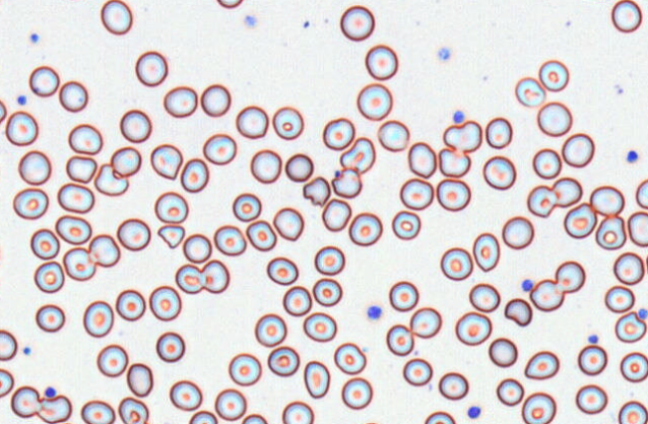PLT: (435, 47, 455, 65), (240, 13, 256, 27), (367, 305, 381, 320), (452, 109, 467, 123), (467, 405, 481, 419), (626, 149, 640, 163), (521, 279, 536, 292), (42, 386, 58, 398), (15, 93, 28, 106), (28, 31, 39, 45), (587, 333, 600, 342), (640, 307, 648, 318), (22, 346, 30, 356)
RBC: (356, 82, 392, 120), (339, 4, 375, 41), (454, 311, 492, 345), (536, 101, 572, 136), (364, 43, 398, 80), (563, 202, 597, 238), (17, 149, 51, 185), (62, 246, 96, 281), (348, 211, 382, 246), (436, 177, 471, 211), (482, 155, 516, 190), (148, 285, 181, 321), (5, 110, 38, 146), (135, 50, 168, 86), (82, 300, 114, 337), (116, 217, 150, 251), (529, 278, 564, 311), (440, 246, 473, 281), (561, 132, 594, 167), (150, 143, 182, 179), (12, 187, 48, 219), (57, 182, 94, 213), (254, 313, 287, 347), (501, 215, 534, 249), (228, 352, 261, 386), (399, 177, 433, 210), (119, 109, 152, 143), (521, 391, 556, 423), (272, 206, 304, 241), (472, 232, 500, 272), (250, 148, 282, 183), (100, 0, 132, 35), (272, 105, 304, 140), (322, 117, 355, 150), (235, 105, 268, 138), (88, 233, 120, 267), (154, 191, 188, 223), (96, 343, 128, 377), (202, 133, 236, 165), (163, 85, 197, 117), (595, 215, 626, 250), (589, 185, 624, 216), (55, 214, 91, 244), (407, 141, 436, 178), (610, 0, 642, 33), (169, 379, 202, 411), (333, 342, 366, 374), (613, 251, 644, 285), (68, 123, 102, 154), (200, 83, 231, 117), (524, 350, 559, 380), (303, 360, 330, 398), (409, 306, 441, 338), (614, 311, 646, 343), (214, 388, 246, 420), (377, 119, 409, 151), (10, 385, 41, 418), (554, 260, 585, 293), (213, 224, 246, 255), (341, 376, 372, 409), (303, 311, 336, 342), (33, 260, 64, 293), (538, 59, 569, 92), (321, 197, 351, 231), (180, 157, 209, 192), (110, 145, 141, 177), (245, 219, 276, 251), (575, 383, 607, 414), (267, 345, 299, 376), (28, 65, 59, 97), (200, 259, 229, 293), (551, 176, 582, 207), (514, 76, 545, 107), (468, 282, 500, 312), (115, 289, 145, 321), (58, 80, 88, 112), (126, 362, 153, 397), (282, 285, 312, 316), (577, 344, 607, 375), (388, 280, 418, 311), (155, 331, 185, 362), (314, 245, 345, 275), (266, 256, 298, 285), (532, 147, 561, 179), (386, 323, 414, 356), (182, 233, 212, 263), (391, 210, 421, 240), (619, 351, 648, 382), (30, 228, 59, 259), (485, 116, 512, 149), (174, 263, 203, 293), (402, 357, 432, 386), (488, 337, 517, 367), (604, 284, 634, 313), (438, 371, 468, 400), (312, 277, 342, 306), (232, 192, 261, 222), (284, 152, 313, 182), (35, 303, 65, 332), (118, 396, 149, 424), (495, 377, 524, 406), (80, 399, 115, 423), (627, 210, 648, 247), (281, 400, 314, 423), (617, 400, 647, 423), (0, 329, 17, 361), (0, 367, 14, 397), (635, 178, 648, 209), (424, 410, 455, 423), (188, 410, 217, 423), (241, 413, 268, 423), (216, 0, 244, 8), (0, 99, 7, 123), (0, 236, 3, 268), (645, 249, 648, 276), (359, 421, 382, 424), (59, 0, 89, 2)
Schistocyte: (340, 136, 376, 173), (443, 118, 482, 151), (95, 163, 129, 196), (526, 184, 558, 218), (331, 167, 363, 199), (64, 155, 98, 185), (437, 147, 471, 177), (39, 395, 73, 424), (504, 295, 533, 326), (303, 175, 329, 207), (157, 224, 185, 249)
